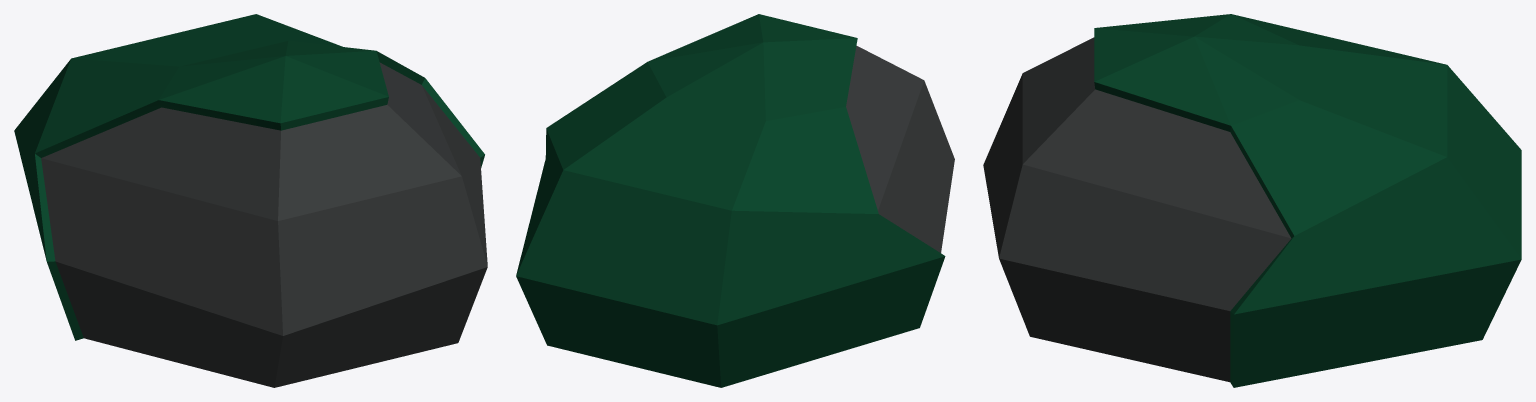
File: F.predakk.fbx
The picture shows the model from 3 angles, left to right: view 1: azimuth 30°, elevation 25°; view 2: azimuth 150°, elevation 25°; view 3: azimuth 270°, elevation 25°; orthographic projection. The views are drawn at different scales.
Parts seen in each view (by area): view 1: pasted__pSphere1; view 2: pasted__pSphere1; view 3: pasted__pSphere1.
Boxes of the visible parts, box(x1,y1,x2,y2) form: pasted__pSphere1: box(14, 14, 487, 387); pasted__pSphere1: box(516, 14, 954, 387); pasted__pSphere1: box(983, 14, 1521, 387).
Size of the model in its own units: 1.34 by 0.7397 by 1.41.
